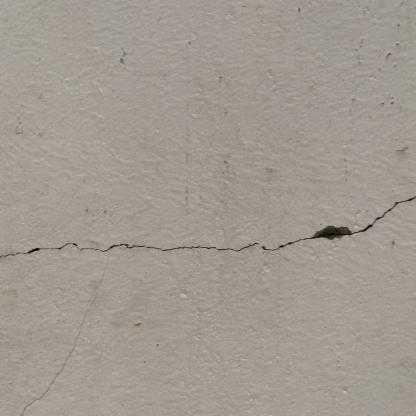crack: (0, 196, 416, 258)
